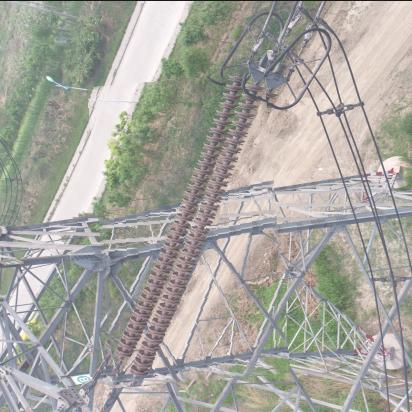insulator: (95, 75, 286, 384)
